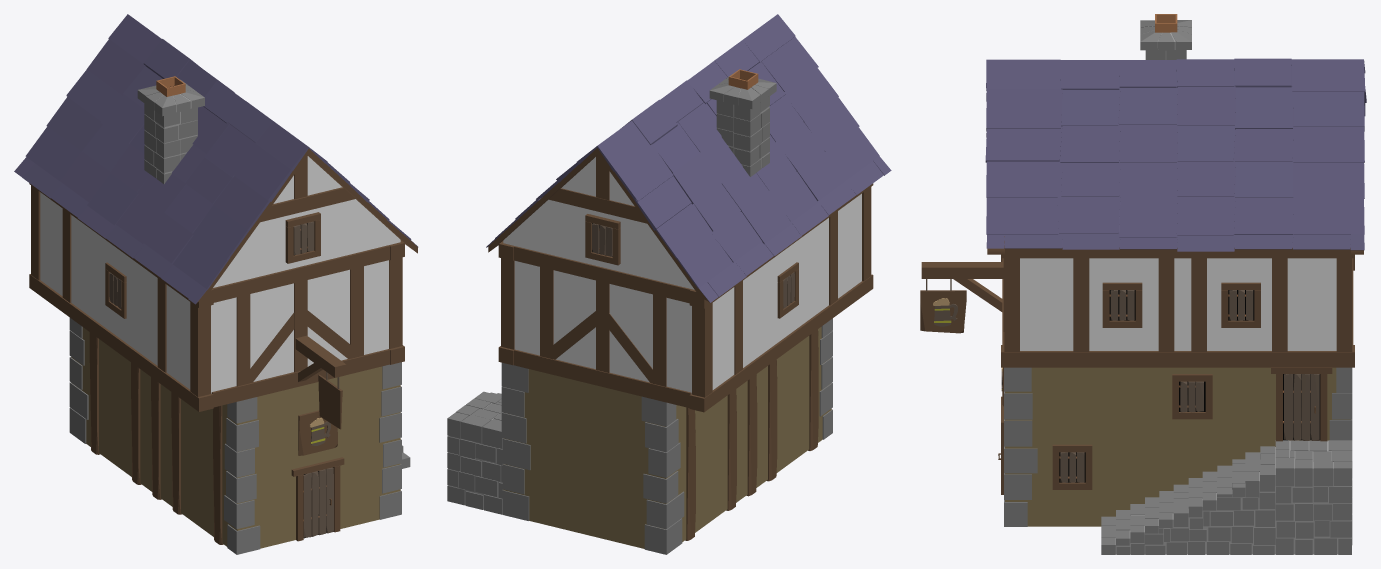
File: building4.glb
3 renders of one model, left to right at view 1: azimuth 30°, elevation 25°; view 2: azimuth 150°, elevation 25°; view 3: azimuth 270°, elevation 25°, orthographic. The views are drawn at different scales.
Parts seen in each view (by area): view 1: Tavern; view 2: Tavern; view 3: Tavern.
Part boxes in pixels (x1,y1,x2,y2): Tavern: [14, 14, 418, 554]; Tavern: [447, 14, 891, 554]; Tavern: [920, 14, 1366, 554].
Size of the model in its own units: 4.17 by 6.1 by 5.71.
